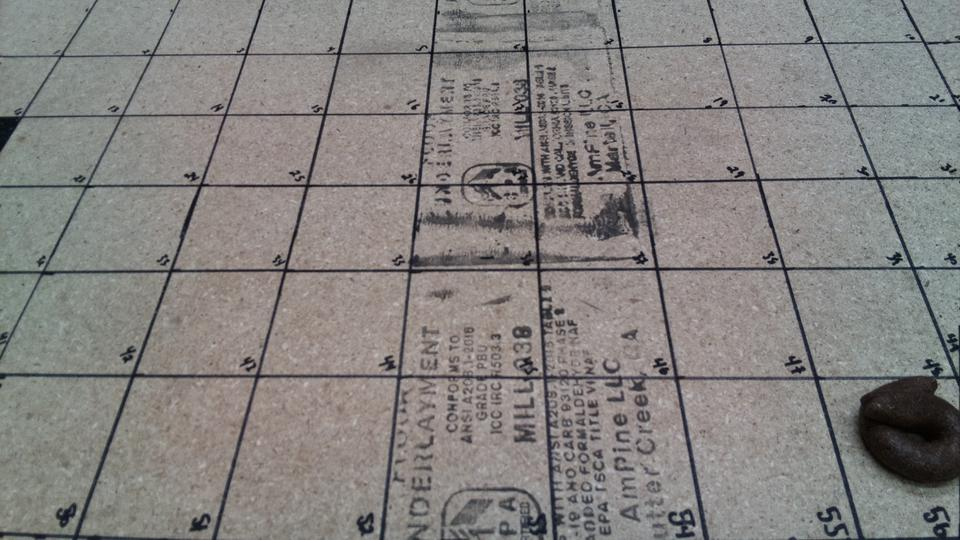poop: (733, 241, 851, 336), (852, 86, 948, 172), (789, 1, 861, 44)
